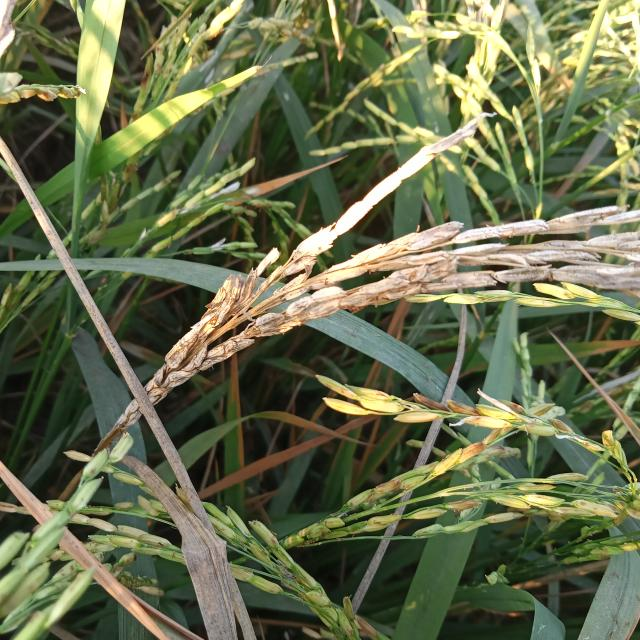Neck_Blast: (116, 206, 640, 421)
